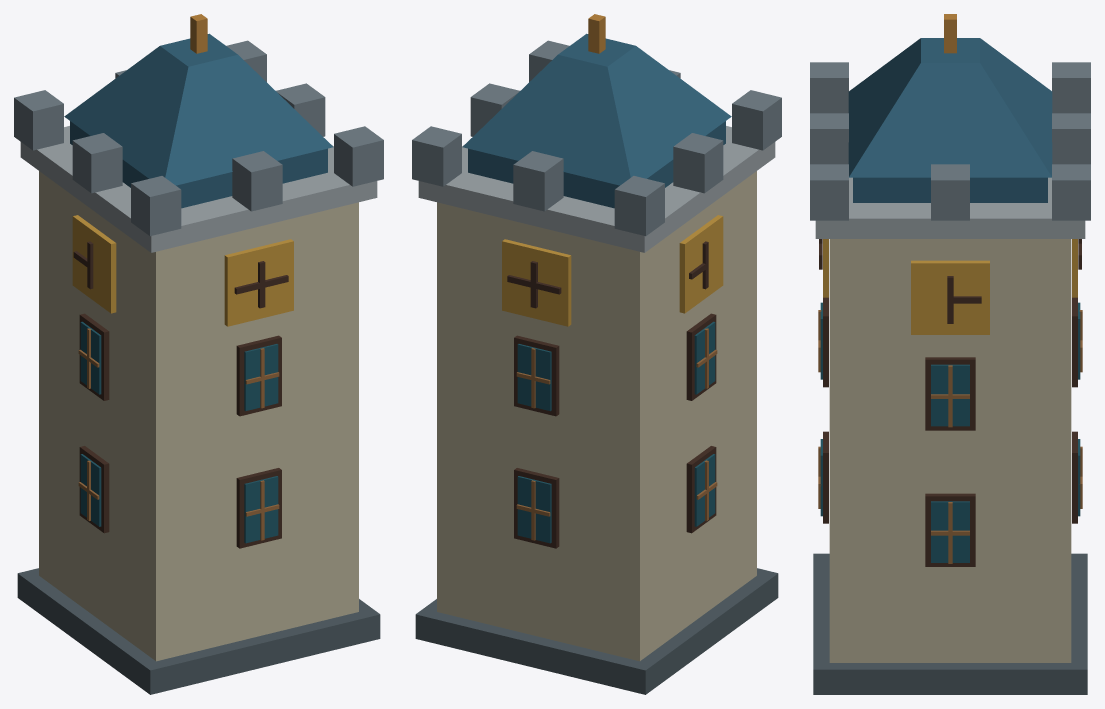
File: Blockland_CourtyardTower_Standard.glb
3 views of the same model, side by side, from view 1: azimuth 30°, elevation 25°; view 2: azimuth 150°, elevation 25°; view 3: azimuth 270°, elevation 25° (orthographic). The views are drawn at different scales.
Parts seen in each view (by area): view 1: Blockland_CourtyardTower_Standard; view 2: Blockland_CourtyardTower_Standard; view 3: Blockland_CourtyardTower_Standard.
Part boxes in pixels (x1,y1,x2,y2): Blockland_CourtyardTower_Standard: (14,14,383,694); Blockland_CourtyardTower_Standard: (412,14,781,694); Blockland_CourtyardTower_Standard: (810,14,1090,694).
Size of the model in its own units: 3 by 7.36 by 3.02.
